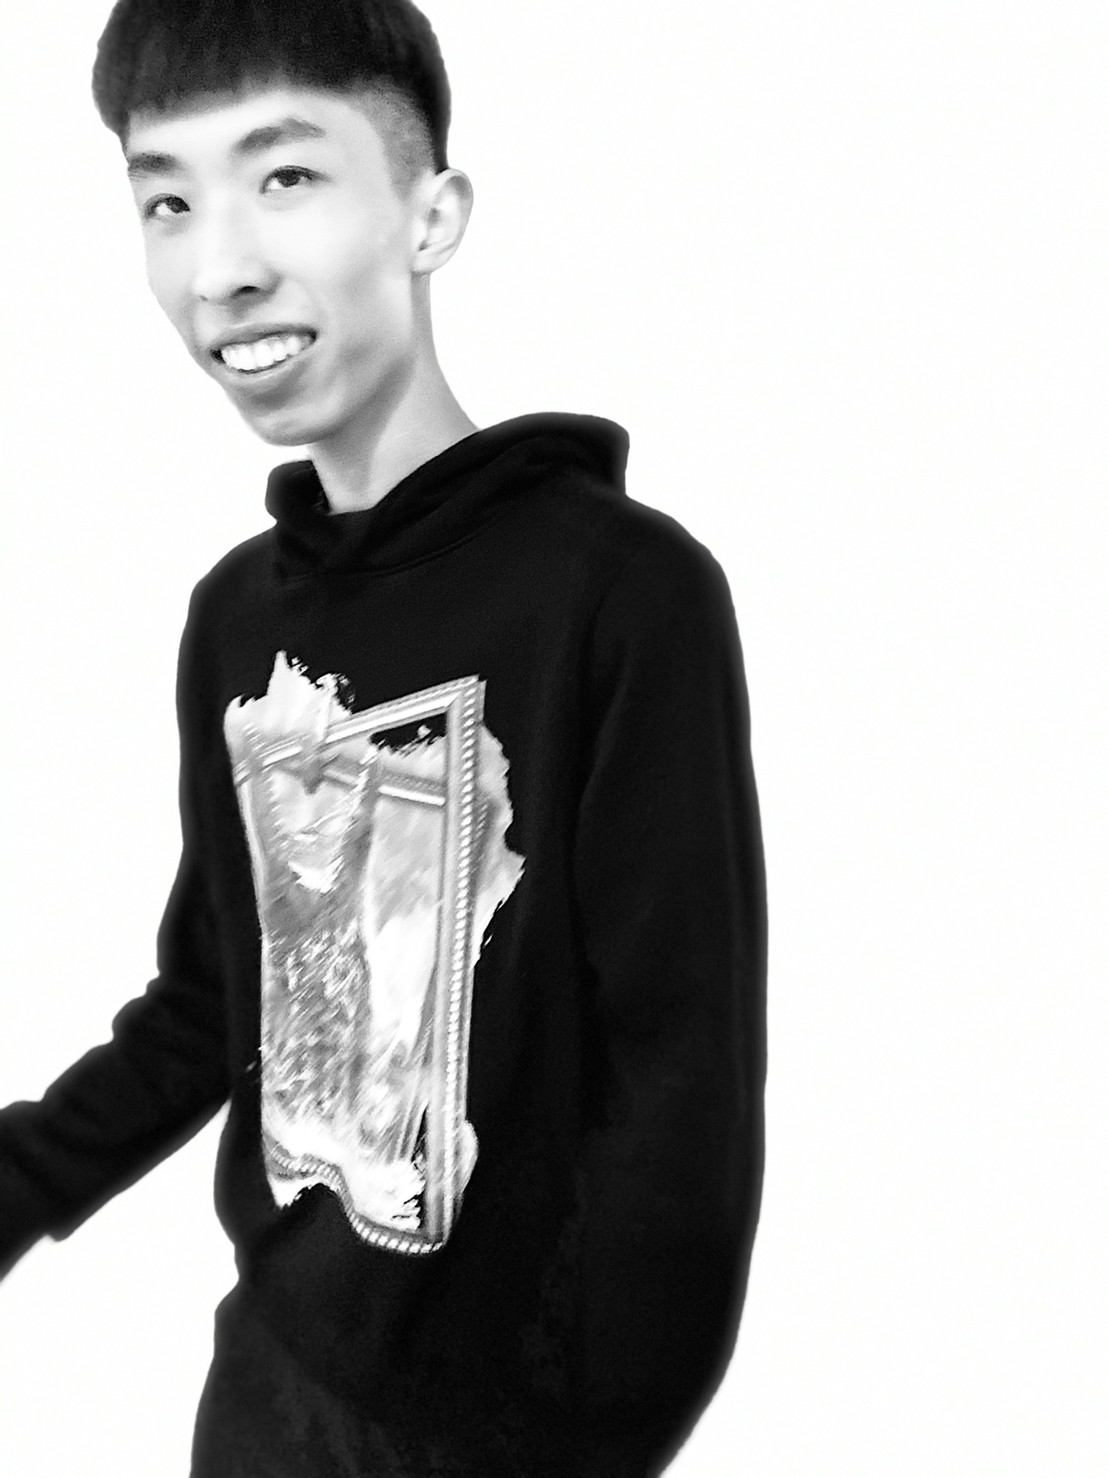people: (69, 1, 647, 1459)
